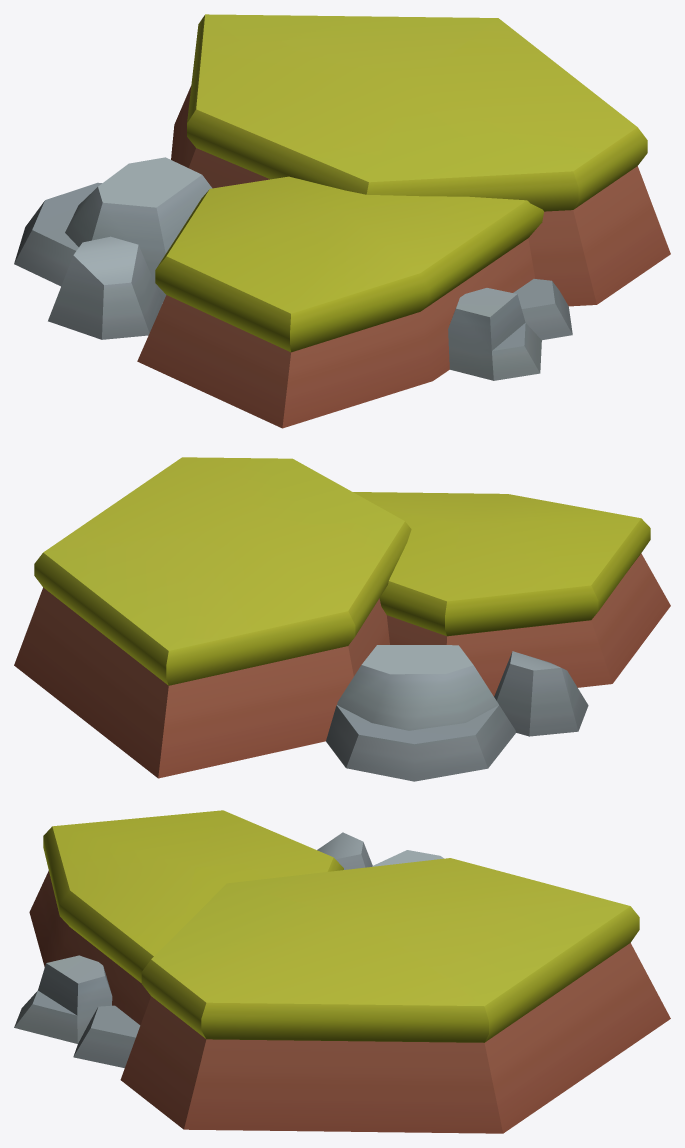
Rendered from kay-colinas.gltf.
3 renders of one model, top to bottom at view 1: azimuth 30°, elevation 25°; view 2: azimuth 150°, elevation 25°; view 3: azimuth 270°, elevation 25°, orthographic. The views are drawn at different scales.
Visible parts, largest first — view 1: hills_B; view 2: hills_B; view 3: hills_B.
Boxes of the visible parts, x1,y1,x2,y2 form: hills_B: [14, 14, 670, 428]; hills_B: [14, 457, 670, 781]; hills_B: [14, 810, 670, 1133].
Size of the model in its own units: 7.37 by 1.83 by 8.12.
1 material, 1 textured.
